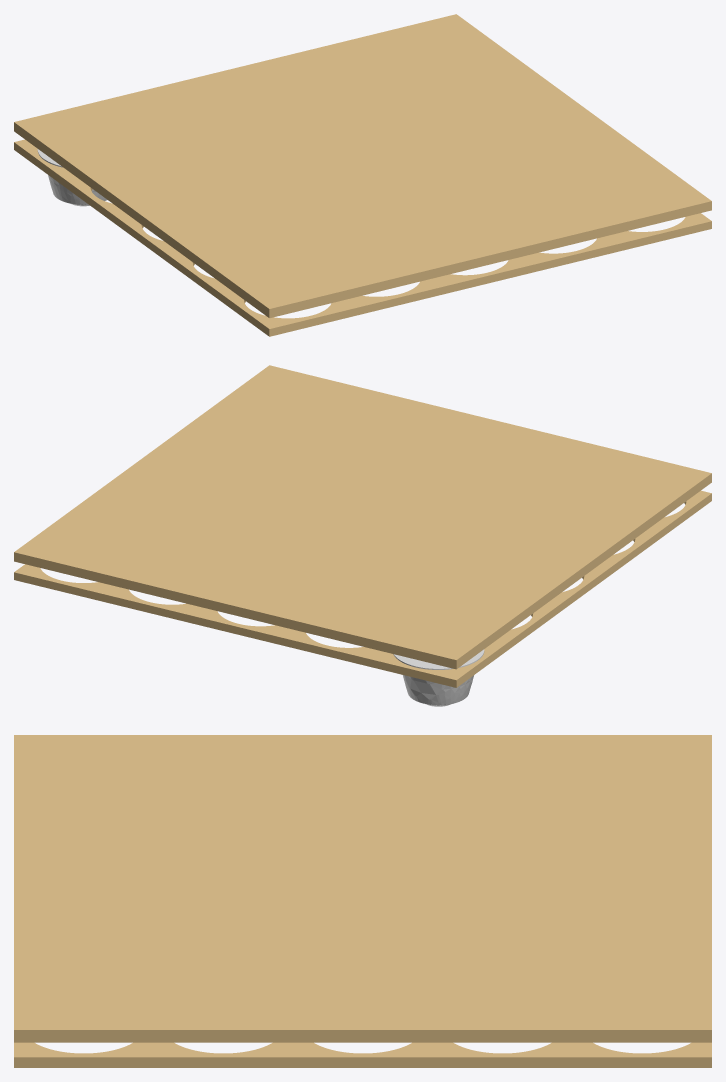
The model's file is capsulero.glb.
3 renders of one model, top to bottom at view 1: azimuth 30°, elevation 25°; view 2: azimuth 150°, elevation 25°; view 3: azimuth 270°, elevation 25°, orthographic. The views are drawn at different scales.
Parts seen in each view (by area): view 1: Cube.002, capsulero-Extrude, FabConvert.com_dolce gusto pod holder; view 2: Cube.002, capsulero-Extrude, FabConvert.com_dolce gusto pod holder; view 3: Cube.002, capsulero-Extrude.
Boxes of the visible parts, x1=… form: Cube.002: x1=14, y1=14, x2=711, y2=318; capsulero-Extrude: x1=14, y1=139, x2=711, y2=336; FabConvert.com_dolce gusto pod holder: x1=37, y1=149, x2=107, y2=206; Cube.002: x1=14, y1=365, x2=711, y2=669; capsulero-Extrude: x1=14, y1=490, x2=711, y2=687; FabConvert.com_dolce gusto pod holder: x1=393, y1=649, x2=484, y2=706; Cube.002: x1=14, y1=735, x2=711, y2=1042; capsulero-Extrude: x1=14, y1=1042, x2=711, y2=1067.
Bounding box in the file's own units: 0.3 × 0.0469 × 0.3.
